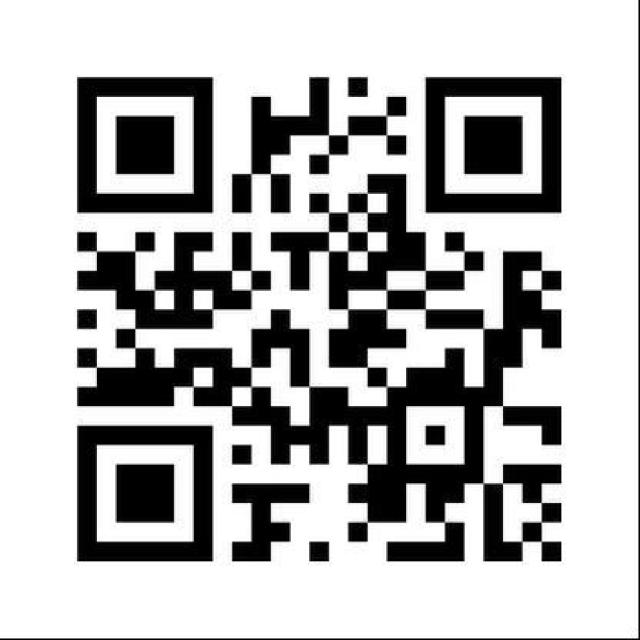QRCode: (68, 65, 570, 566)
